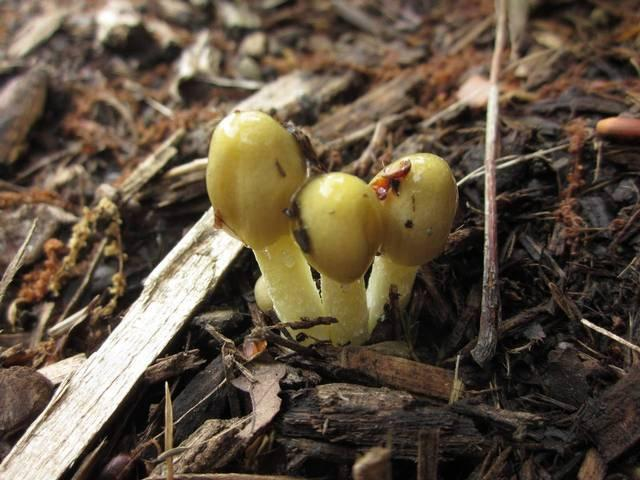edible_mushroom: (204, 107, 459, 348), (204, 108, 329, 346), (364, 151, 459, 337), (287, 170, 383, 346)
